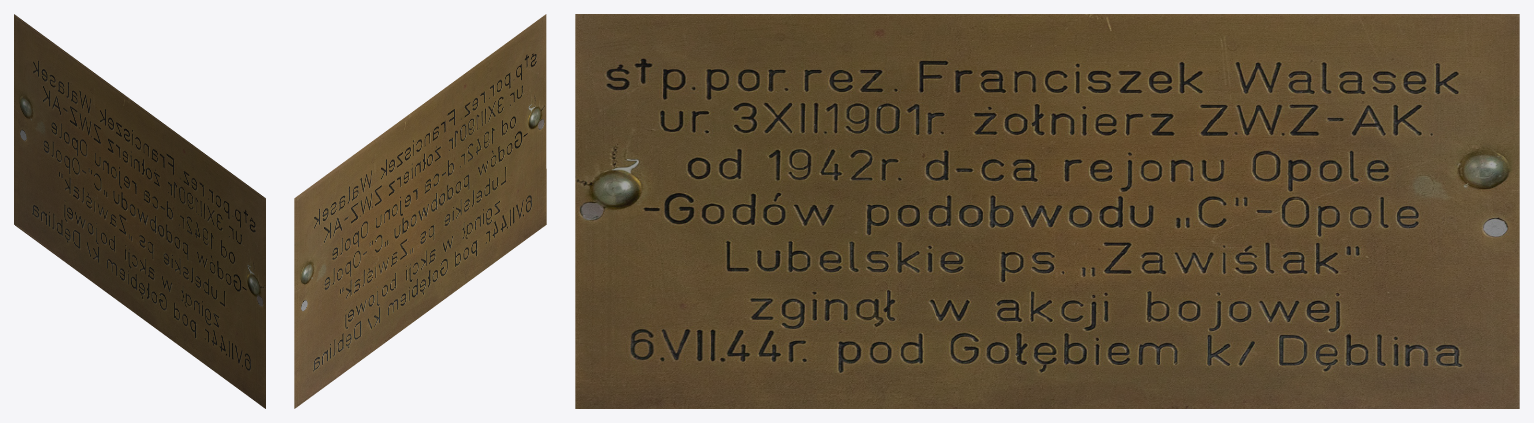
The model's file is 93. Ś.P. por. rez. FRANCISZEK WALASEK.glb.
3 views of the same model, side by side, from view 1: azimuth 30°, elevation 25°; view 2: azimuth 150°, elevation 25°; view 3: azimuth 270°, elevation 25° (orthographic). The views are drawn at different scales.
Visible parts, largest first — view 1: Plane; view 2: Plane; view 3: Plane.
Boxes of the visible parts, <box> form: Plane: <box>14,14,265,408</box>; Plane: <box>294,14,546,408</box>; Plane: <box>575,14,1519,408</box>.
Size of the model in its own units: 0.0102 by 6 by 13.
1 material, 1 textured.
